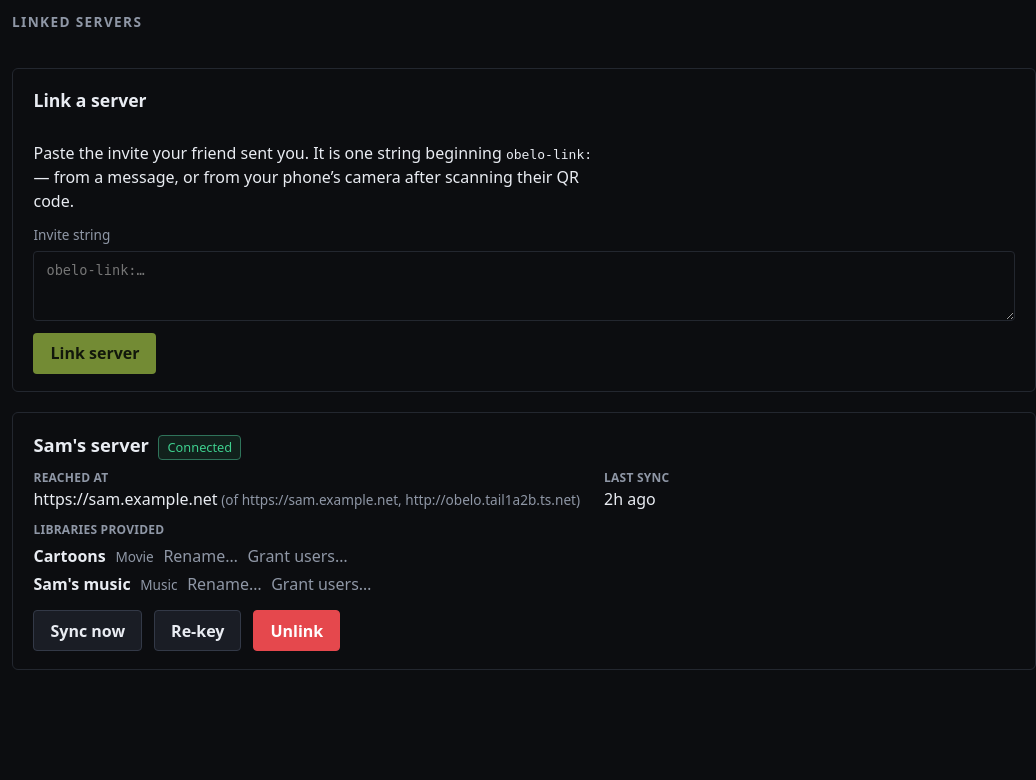
AdminLinkedServersScreen — renaming a linked library › Cancel puts the original name back and sends nothing
Expected: the list item with test id "link-row" is shown, x1=12 y1=412 x2=1035 y2=670
Click the button with test id "link-library-rename-toggle" in the row of "Cartoons". click: (201, 556)
box: x1=163 y1=544 x2=238 y2=568
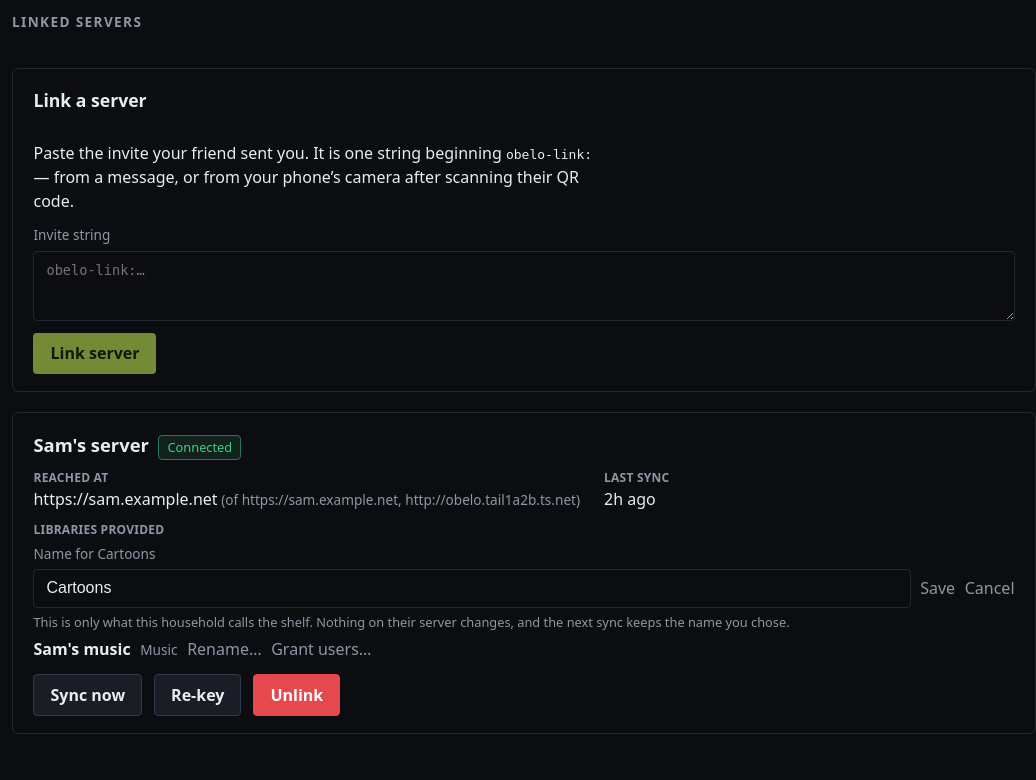
Replace the text in the field with test id "link-library-rename-input" with "Nonsense". click: (472, 588)
box: x1=34 y1=569 x2=911 y2=608
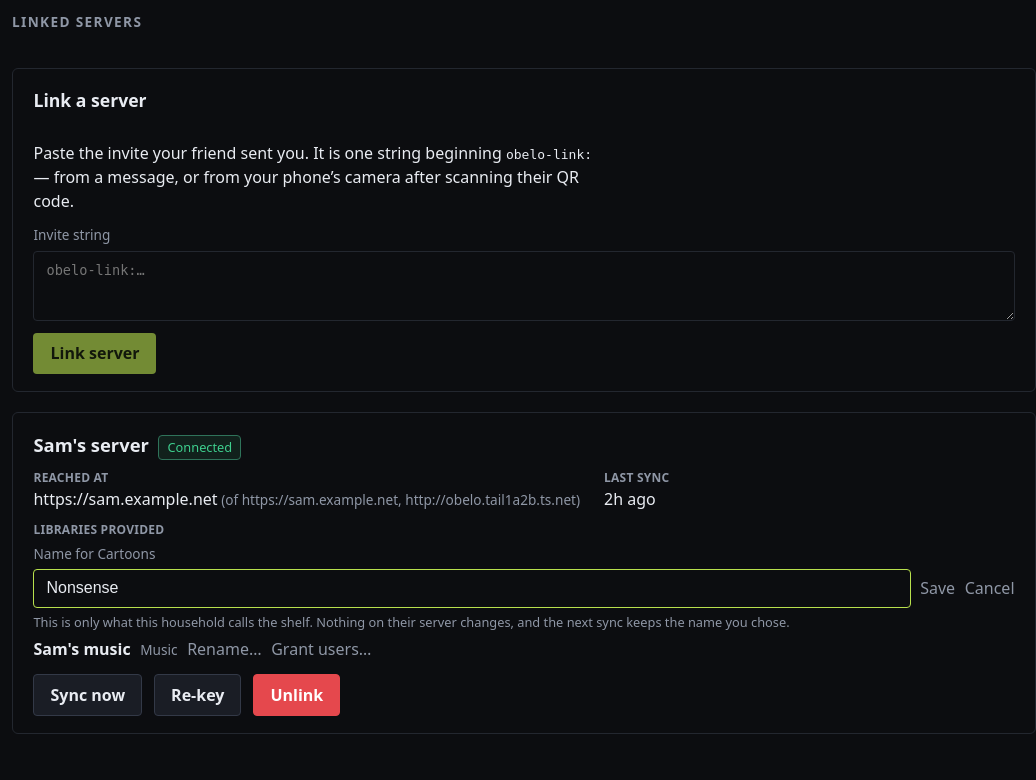
Click the button with test id "link-library-rename-cancel". click: (990, 588)
box: x1=965 y1=576 x2=1014 y2=600
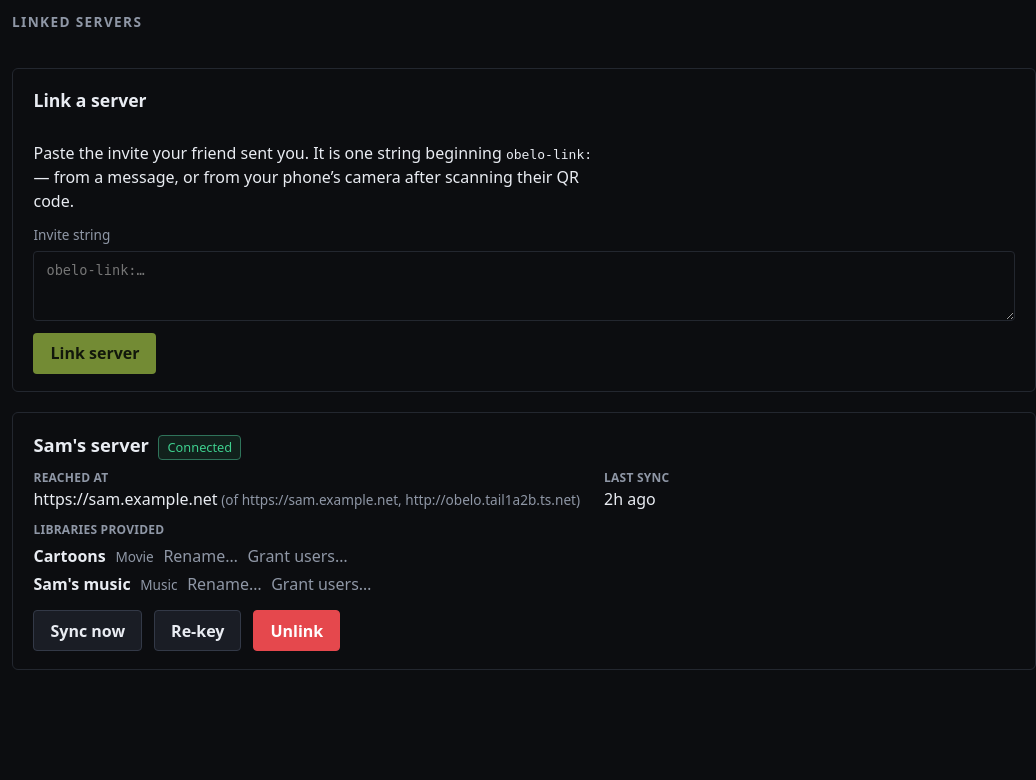
Expected: the list with test id "link-libraries" shows "Cartoons", x1=34 y1=545 x2=106 y2=567
Now the field with test id "link-library-rename-input" is gone
